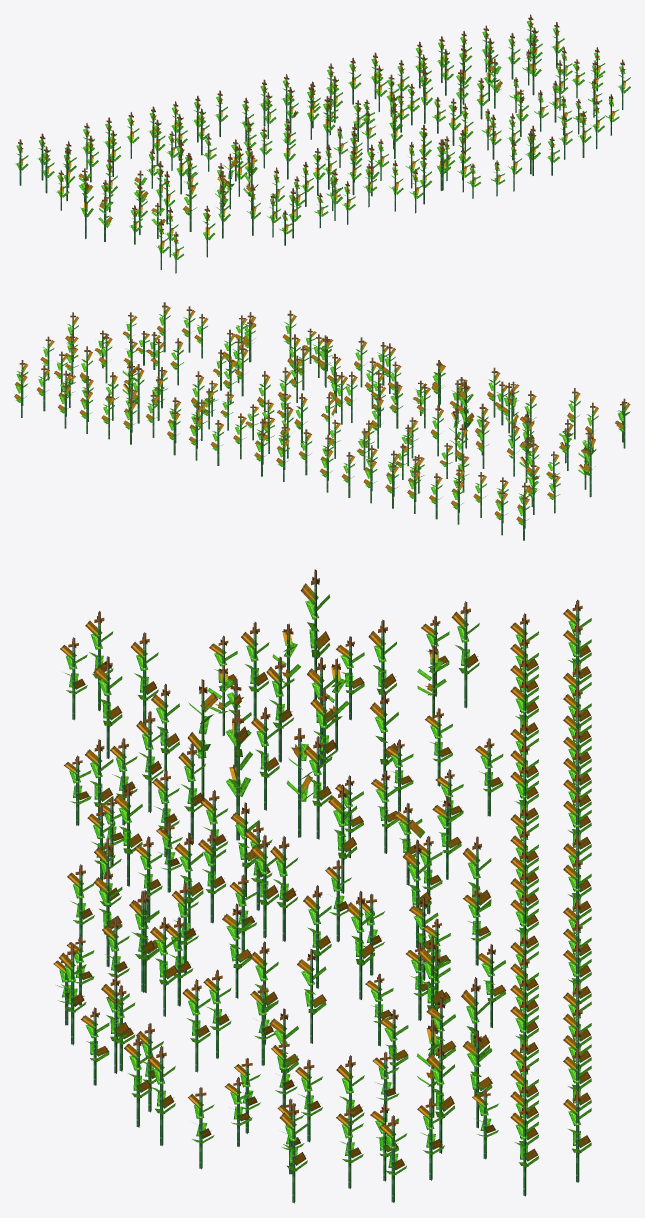
The model's file is Kukuruza flipped.fbx.
The picture shows the model from 3 angles, top to bottom: view 1: azimuth 30°, elevation 25°; view 2: azimuth 150°, elevation 25°; view 3: azimuth 270°, elevation 25°; orthographic projection. The views are drawn at different scales.
Parts seen in each view (by area): view 1: Kukuruza; view 2: Kukuruza; view 3: Kukuruza.
Boxes of the visible parts, box(x1,y1,x2,y2) form: Kukuruza: box(15, 14, 630, 273); Kukuruza: box(14, 302, 630, 540); Kukuruza: box(53, 569, 591, 1203).
Size of the model in its own units: 3631 by 435 by 1580.
